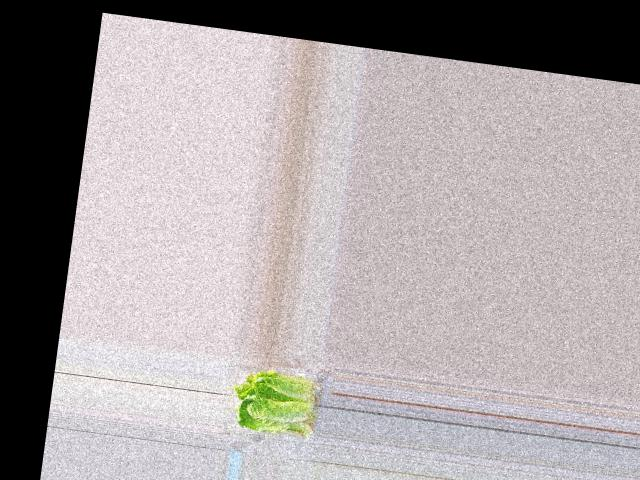lettuce: (229, 366, 317, 438)
